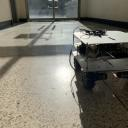cart: (72, 31, 128, 89)
